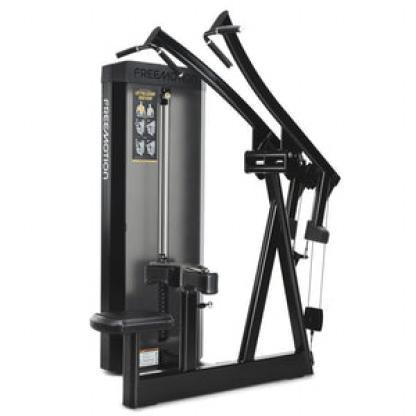Lat Pull Down: (90, 8, 351, 409)
